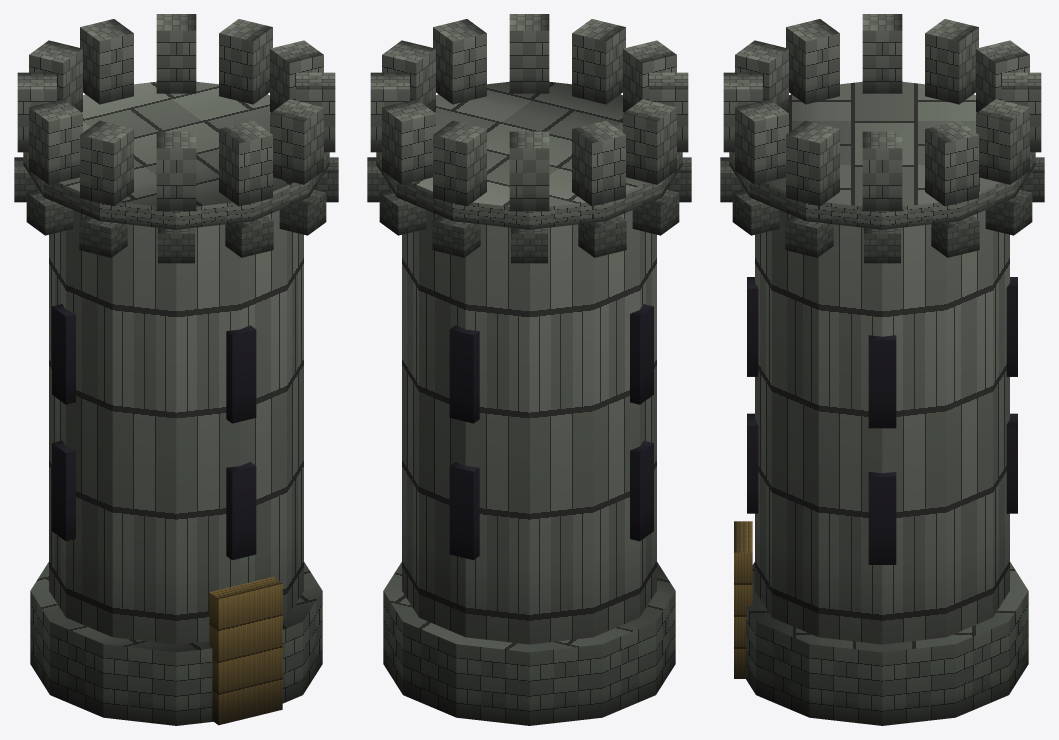
The model's file is guard_tower.gltf.
3 renders of one model, left to right at view 1: azimuth 30°, elevation 25°; view 2: azimuth 150°, elevation 25°; view 3: azimuth 270°, elevation 25°, orthographic.
Visible parts, largest first — view 1: guard_tower; view 2: guard_tower; view 3: guard_tower.
Part boxes in pixels (x1,y1,x2,y2): guard_tower: [14, 14, 338, 725]; guard_tower: [367, 14, 691, 725]; guard_tower: [720, 14, 1044, 725].
Bounding box in the file's own units: 1.4 × 2.77 × 1.4.
1 material, 1 textured.
